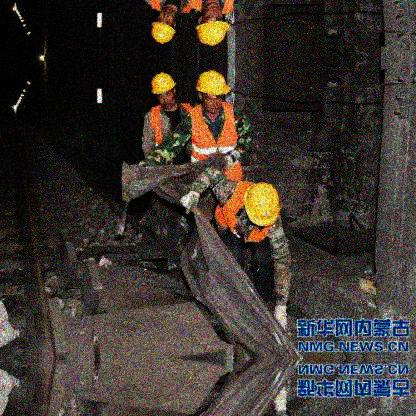helmet: (194, 1, 232, 48), (194, 70, 230, 113), (150, 1, 179, 45), (148, 72, 178, 110)
